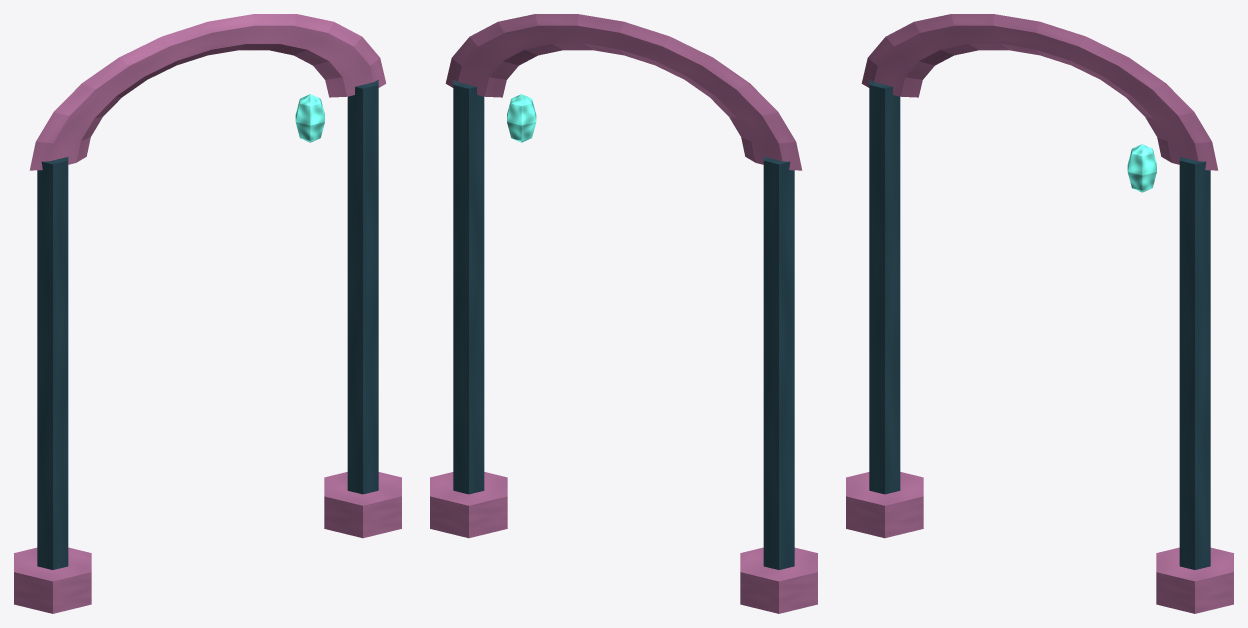
File: atlas100-s061-a09.lod1.glb
3 views of the same model, side by side, from view 1: azimuth 30°, elevation 25°; view 2: azimuth 150°, elevation 25°; view 3: azimuth 330°, elevation 25° (orthographic).
Parts seen in each view (by area): view 1: atlas100-s061-a09:part-004, atlas100-s061-a09:part-000, atlas100-s061-a09:part-002, atlas100-s061-a09:part-001, atlas100-s061-a09:part-003, atlas100-s061-a09:part-006; view 2: atlas100-s061-a09:part-004, atlas100-s061-a09:part-000, atlas100-s061-a09:part-002, atlas100-s061-a09:part-001, atlas100-s061-a09:part-003, atlas100-s061-a09:part-006; view 3: atlas100-s061-a09:part-004, atlas100-s061-a09:part-002, atlas100-s061-a09:part-000, atlas100-s061-a09:part-001, atlas100-s061-a09:part-003, atlas100-s061-a09:part-006.
Boxes of the visible parts, x1,y1,x2,y2 form: atlas100-s061-a09:part-004: (29,14,386,170); atlas100-s061-a09:part-000: (37,157,68,569); atlas100-s061-a09:part-002: (347,79,378,494); atlas100-s061-a09:part-001: (14,547,91,613); atlas100-s061-a09:part-003: (324,472,401,538); atlas100-s061-a09:part-006: (295,94,324,142); atlas100-s061-a09:part-004: (445,14,802,170); atlas100-s061-a09:part-000: (763,157,794,569); atlas100-s061-a09:part-002: (453,79,484,494); atlas100-s061-a09:part-001: (740,547,817,613); atlas100-s061-a09:part-003: (430,472,507,538); atlas100-s061-a09:part-006: (507,94,536,142); atlas100-s061-a09:part-004: (861,14,1218,170); atlas100-s061-a09:part-002: (1179,157,1210,569); atlas100-s061-a09:part-000: (869,79,900,494); atlas100-s061-a09:part-001: (846,472,923,538); atlas100-s061-a09:part-003: (1156,547,1233,613); atlas100-s061-a09:part-006: (1127,144,1156,192).
Size of the model in its own units: 2.5 by 3.3 by 0.433.
3 materials, 3 textured.
